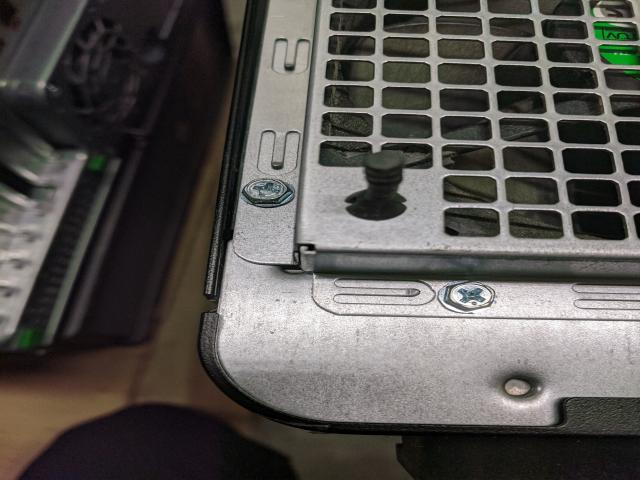CRS: (242, 176, 296, 207), (446, 280, 498, 311)
